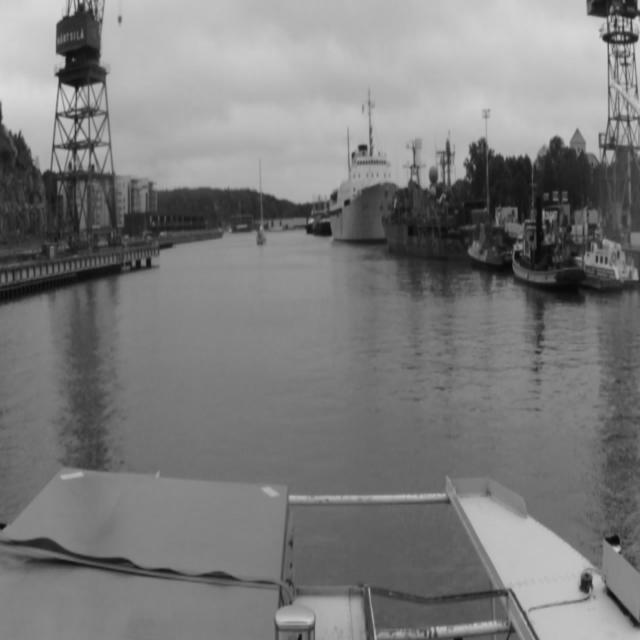ship: (384, 135, 470, 265), (328, 85, 384, 248), (514, 207, 588, 299), (466, 201, 488, 271), (305, 193, 325, 239), (256, 155, 266, 245)
